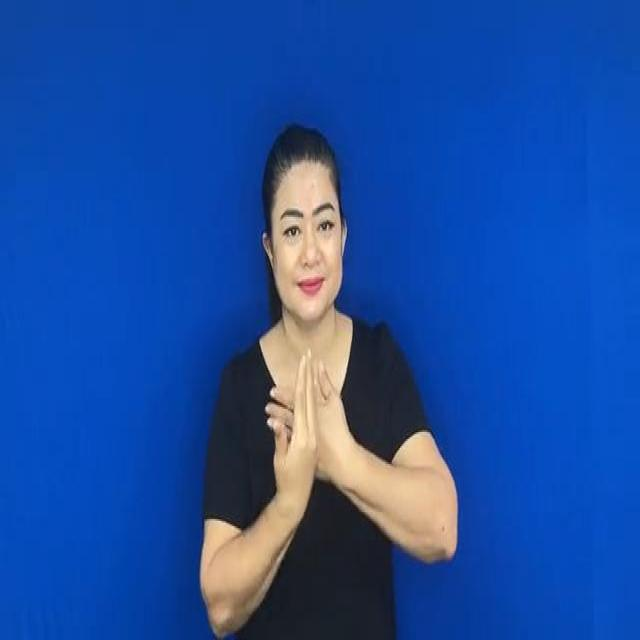bread: (255, 356, 378, 523)
